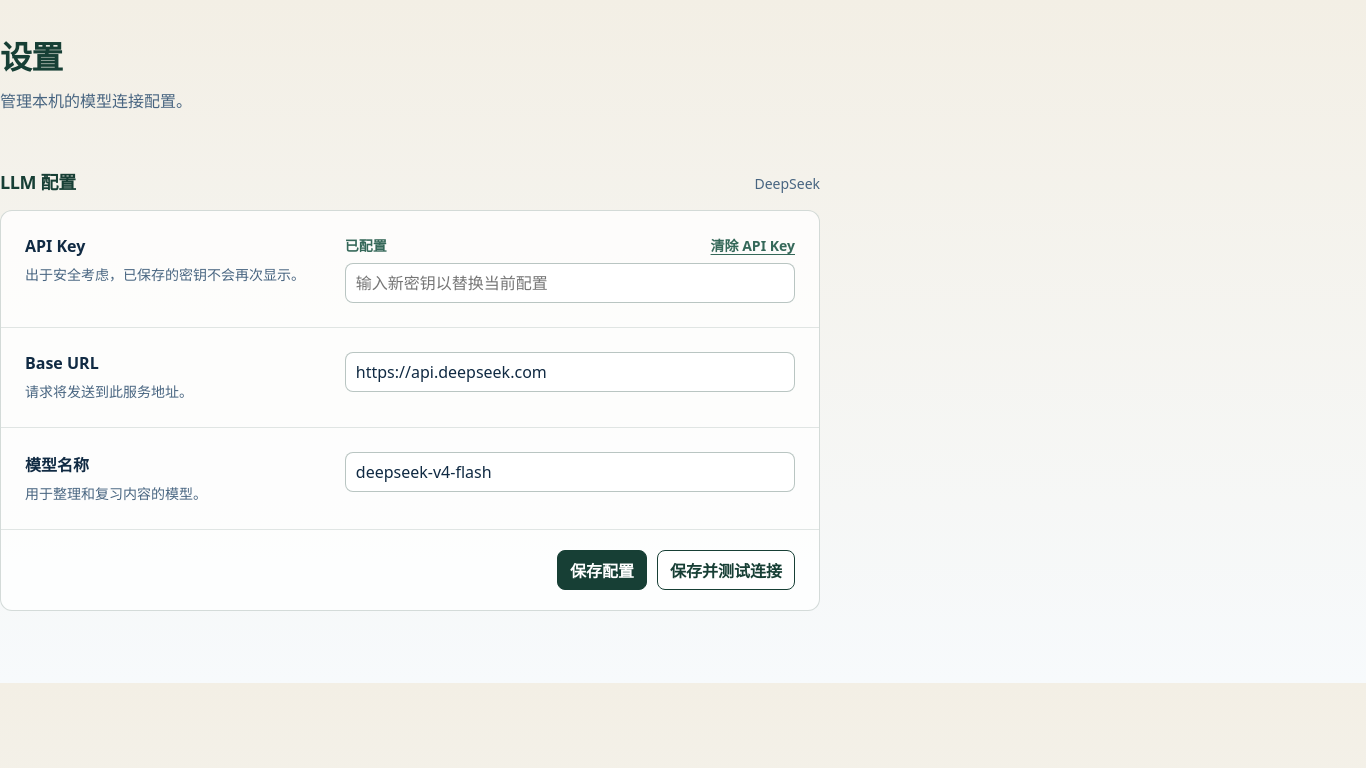
Test: SettingsPage › 保存空 API Key 时保留已有密钥
Click the button "保存配置".
click(602, 570)  # box left=557, top=550, right=647, bottom=590
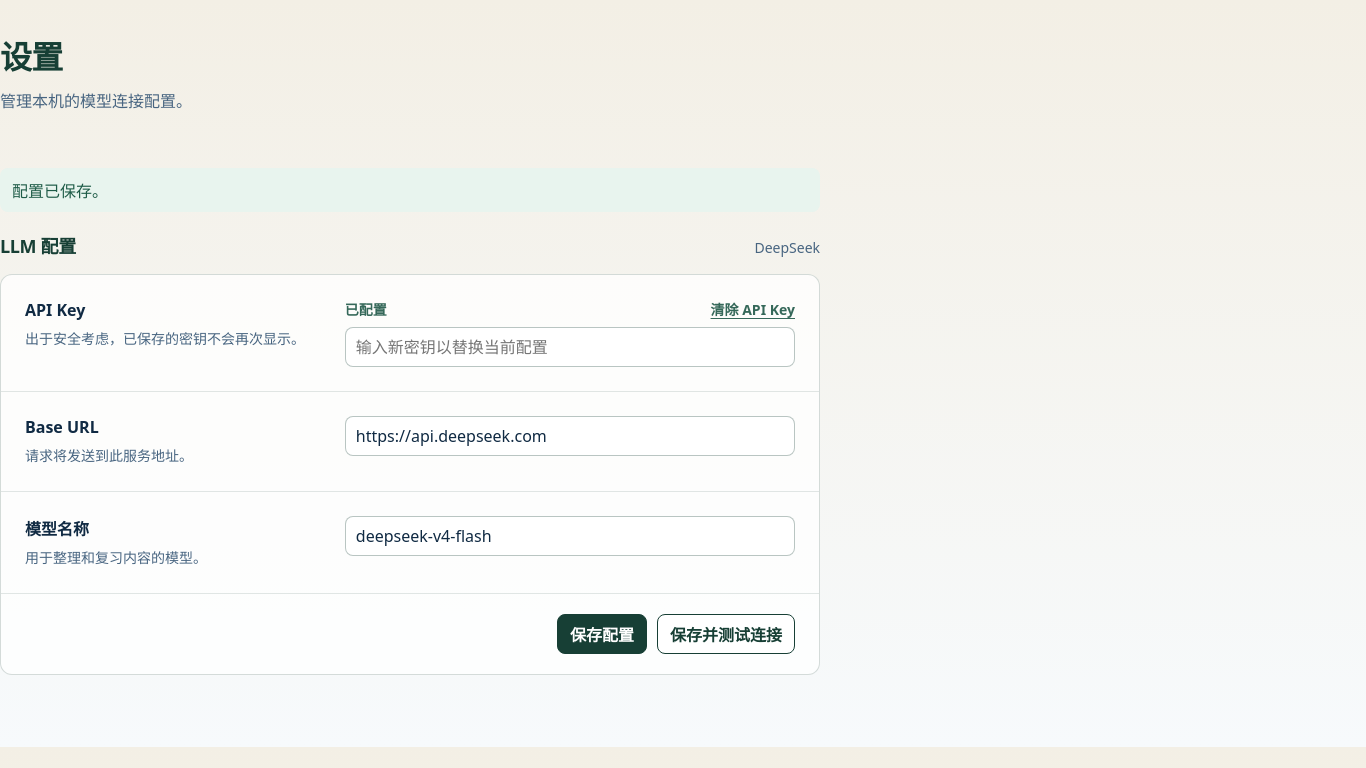
Expected: the message reads "配置已保存。", left=12, top=180, right=108, bottom=202
